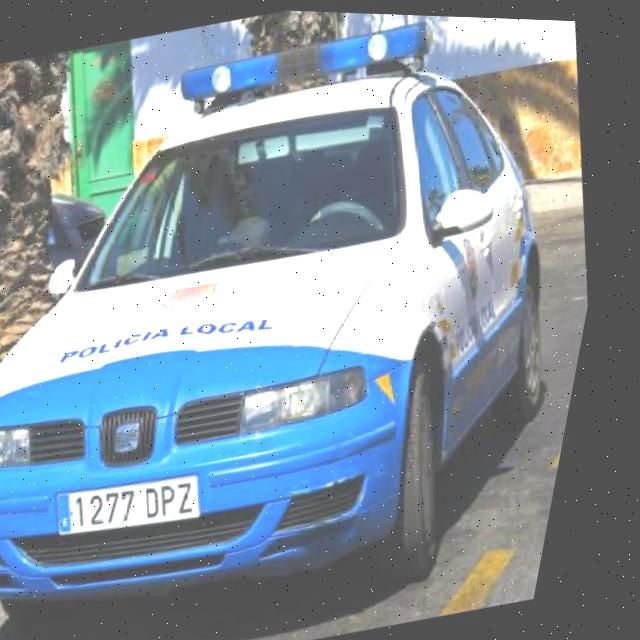license_plate: (68, 463, 226, 546)
